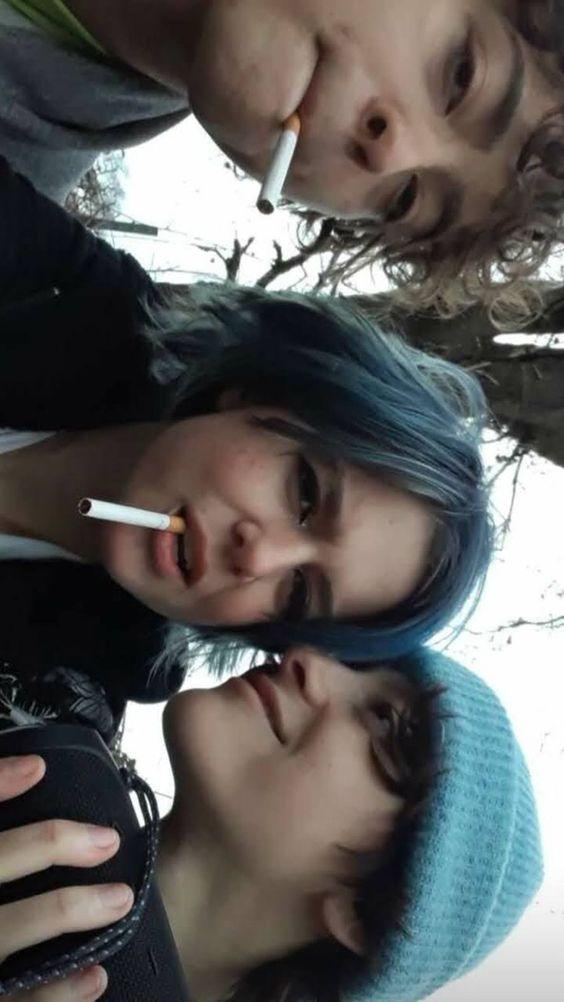cigarette: (256, 111, 301, 215), (77, 497, 188, 534)
